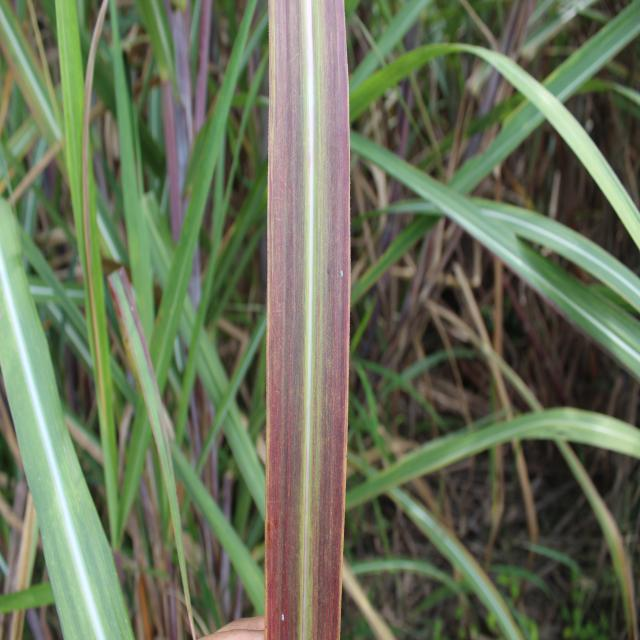Sugarcane: (276, 0, 350, 640), (471, 37, 640, 309), (51, 3, 118, 546), (346, 404, 640, 523), (357, 481, 538, 640), (486, 218, 640, 399), (178, 153, 269, 431), (161, 424, 265, 617), (182, 0, 268, 228), (105, 1, 154, 363), (5, 203, 100, 382), (350, 1, 466, 117), (0, 0, 67, 191), (530, 2, 638, 116), (354, 210, 444, 319), (128, 0, 180, 116)
